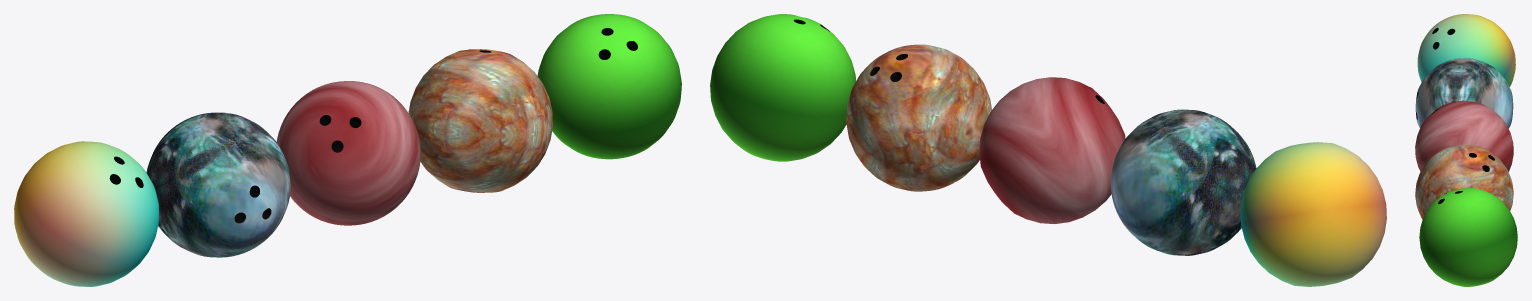
File: bowling_balls.glb
3 views of the same model, side by side, from view 1: azimuth 30°, elevation 25°; view 2: azimuth 150°, elevation 25°; view 3: azimuth 270°, elevation 25° (orthographic). The views are drawn at different scales.
Parts seen in each view (by area): view 1: Ball1_01 - Default_0, Ball4_01 - Default_0, Ball3, Ball2_01 - Default_0, Ball5_01 - Default_0; view 2: Ball1_01 - Default_0, Ball5_01 - Default_0, Ball4_01 - Default_0, Ball3, Ball2_01 - Default_0; view 3: Ball5_01 - Default_0, Ball3, Ball1_01 - Default_0, Ball4_01 - Default_0, Ball2_01 - Default_0, Ball1_02 - Default_0, Ball4_02 - Default_0.
Boxes of the visible parts, bbox=[...] form: Ball1_01 - Default_0: bbox=[14, 141, 158, 286]; Ball4_01 - Default_0: bbox=[408, 49, 552, 192]; Ball3: bbox=[276, 81, 420, 225]; Ball2_01 - Default_0: bbox=[146, 112, 290, 257]; Ball5_01 - Default_0: bbox=[537, 14, 681, 159]; Ball1_01 - Default_0: bbox=[1240, 142, 1386, 286]; Ball5_01 - Default_0: bbox=[710, 14, 855, 161]; Ball4_01 - Default_0: bbox=[846, 44, 991, 191]; Ball3: bbox=[979, 77, 1125, 223]; Ball2_01 - Default_0: bbox=[1110, 109, 1256, 255]; Ball5_01 - Default_0: bbox=[1419, 188, 1517, 286]; Ball3: bbox=[1415, 100, 1513, 171]; Ball1_01 - Default_0: bbox=[1417, 14, 1515, 86]; Ball4_01 - Default_0: bbox=[1415, 144, 1513, 219]; Ball2_01 - Default_0: bbox=[1415, 58, 1513, 128]; Ball1_02 - Default_0: bbox=[1432, 27, 1455, 49]; Ball4_02 - Default_0: bbox=[1469, 153, 1494, 171].
Size of the model in its own units: 11.9 by 2.33 by 2.4.
Materials: 2 (2 with a texture image).
